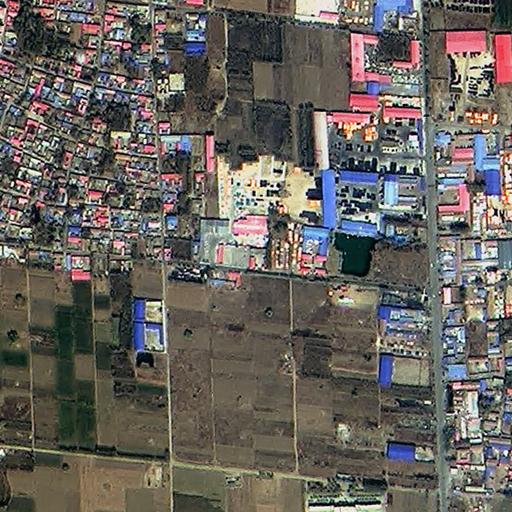school: (197, 216, 271, 271)
